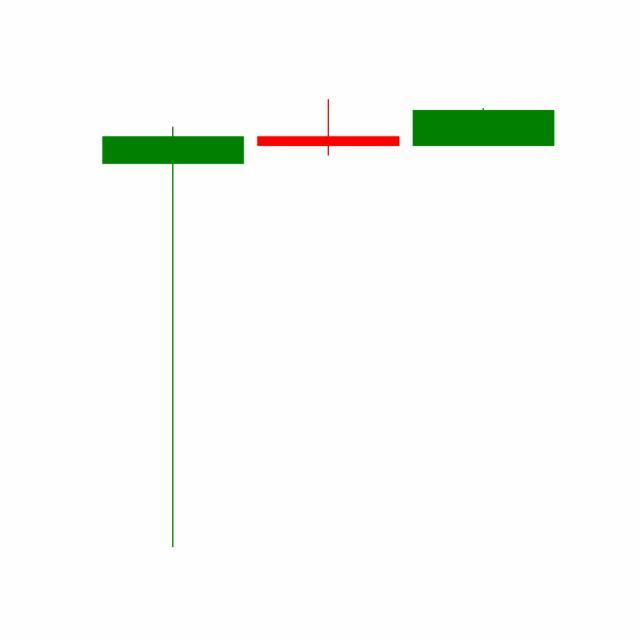Gravestone Doji: (250, 99, 407, 158)
